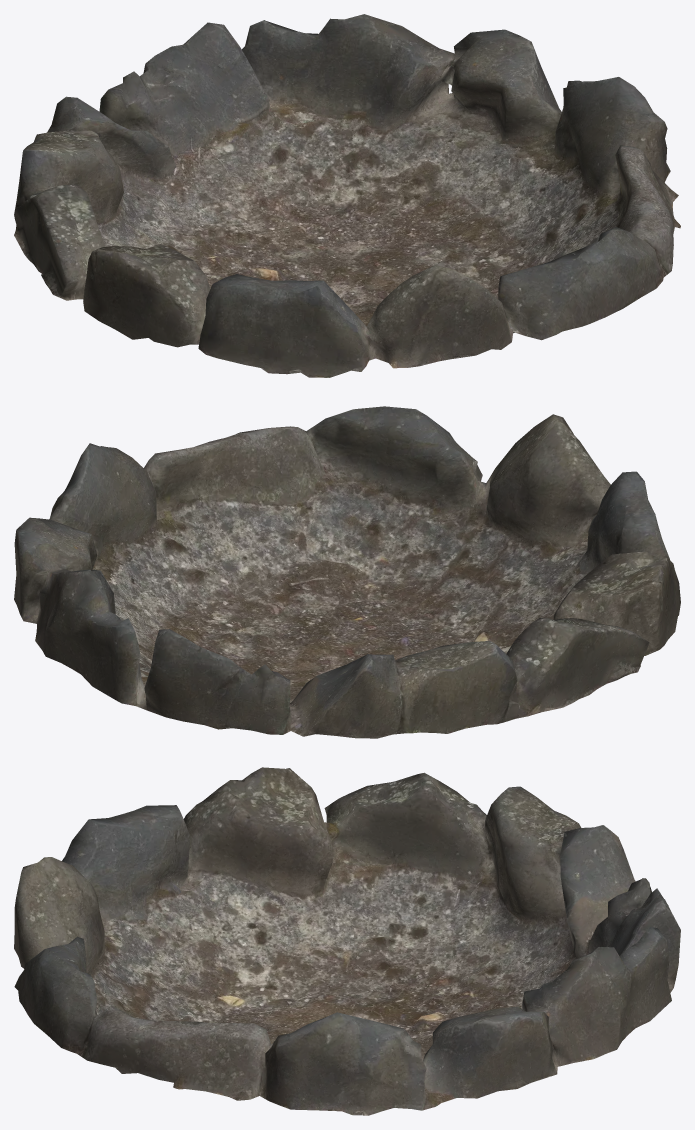
File: firepit.glb
The picture shows the model from 3 angles, top to bottom: view 1: azimuth 30°, elevation 25°; view 2: azimuth 150°, elevation 25°; view 3: azimuth 270°, elevation 25°; orthographic projection.
Visible parts, largest first — view 1: stone_fire_pit; view 2: stone_fire_pit; view 3: stone_fire_pit.
Boxes of the visible parts, x1,y1,x2,y2 form: stone_fire_pit: [14, 14, 680, 377]; stone_fire_pit: [14, 406, 680, 738]; stone_fire_pit: [14, 767, 680, 1115].
Size of the model in its own units: 1.45 by 0.3883 by 1.43.
Materials: 1 (1 with a texture image).
